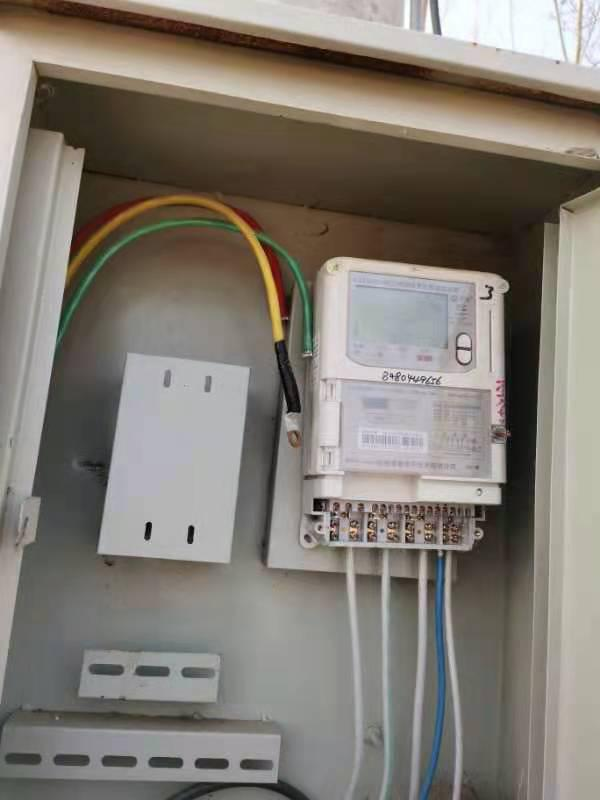digital: (320, 255, 509, 484)
